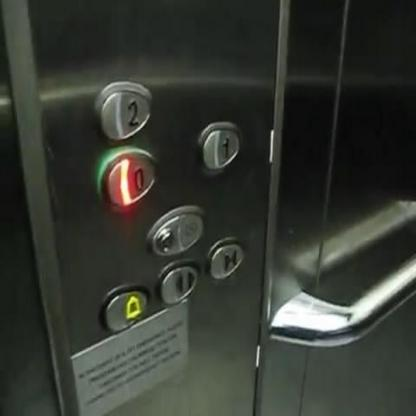0: (94, 146, 159, 213)
1: (194, 117, 243, 175)
2: (92, 78, 156, 145)
alarm: (96, 281, 150, 335)
close: (203, 233, 247, 285)
open: (154, 258, 200, 309)
